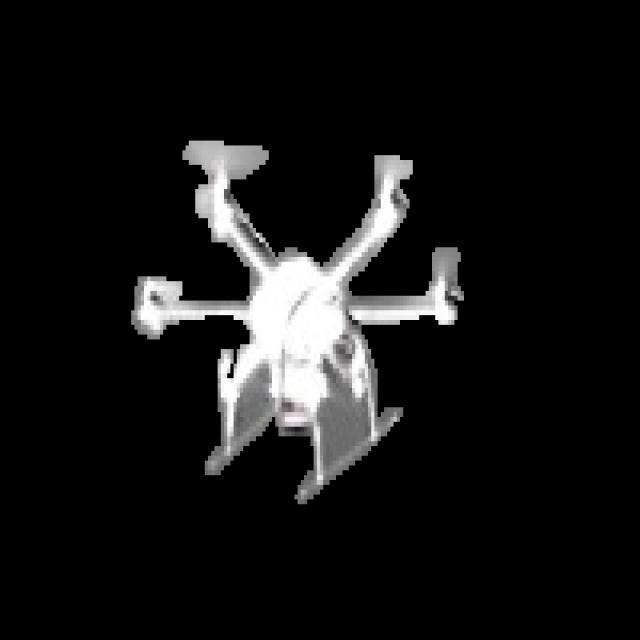drone: (130, 135, 467, 497)
